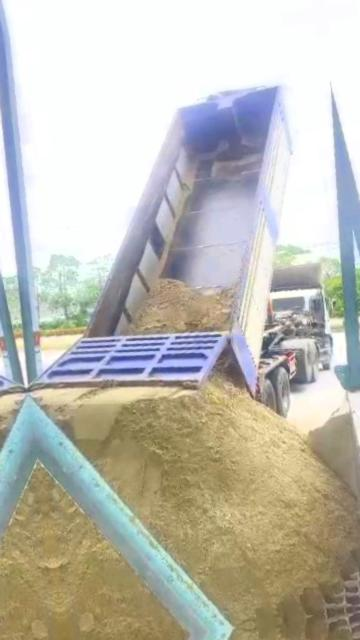sand: (77, 377, 360, 627), (40, 469, 180, 640), (35, 386, 192, 440), (128, 279, 233, 334), (307, 401, 359, 494), (214, 346, 239, 381)
